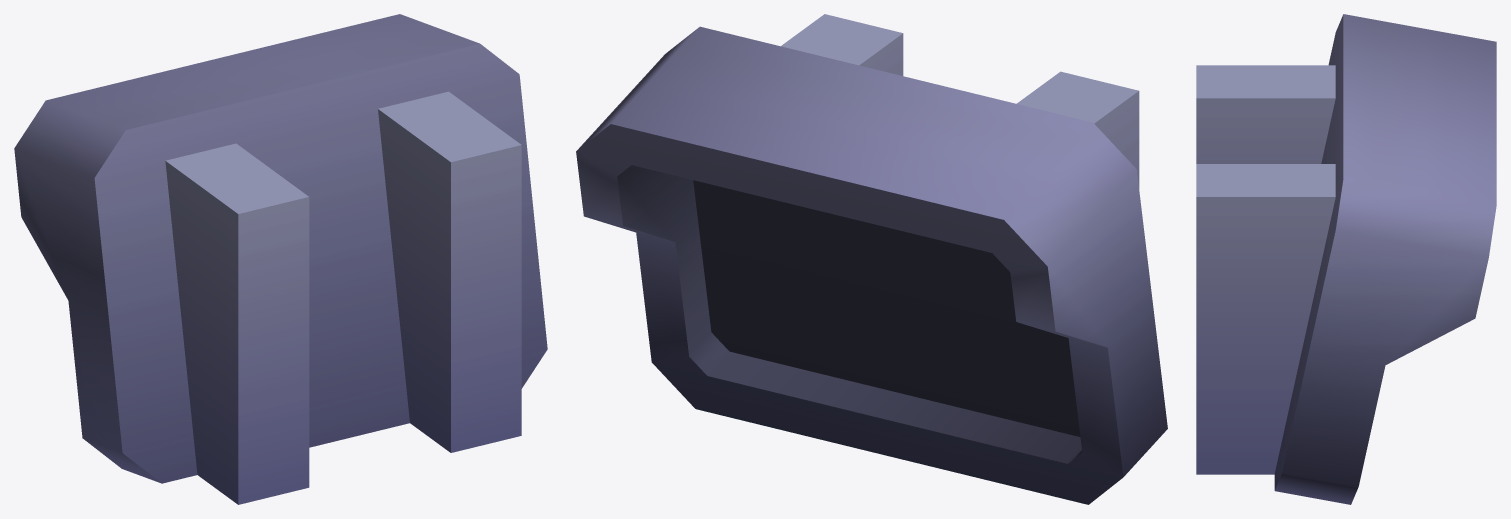
The model's file is kenney-conveyor-screen-hanging-wide.glb.
3 renders of one model, left to right at view 1: azimuth 30°, elevation 25°; view 2: azimuth 150°, elevation 25°; view 3: azimuth 270°, elevation 25°, orthographic. The views are drawn at different scales.
Parts seen in each view (by area): view 1: screen-hanging-wide; view 2: screen-hanging-wide; view 3: screen-hanging-wide.
Part boxes in pixels (x1=…): screen-hanging-wide: x1=14, y1=14, x2=547, y2=504; screen-hanging-wide: x1=576, y1=14, x2=1167, y2=504; screen-hanging-wide: x1=1196, y1=14, x2=1496, y2=504.
Bounding box in the file's own units: 0.9 × 0.6914 × 0.5765.
Materials: 1 (1 with a texture image).
